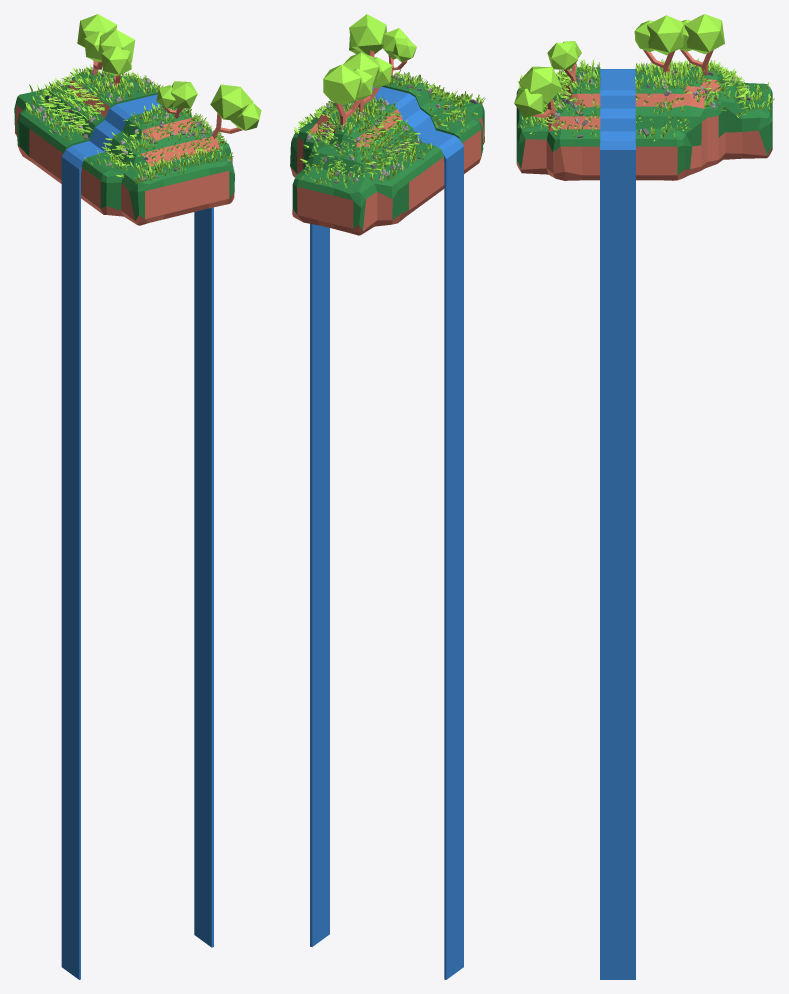
The model's file is Island 2.fbx.
The picture shows the model from 3 angles, left to right: view 1: azimuth 30°, elevation 25°; view 2: azimuth 150°, elevation 25°; view 3: azimuth 270°, elevation 25°; orthographic projection. The views are drawn at different scales.
Parts seen in each view (by area): view 1: Island 2, Island 2|Tree 1|Dupli|0.2, Island 2|Tree 1|Dupli|2.2, Island 2|Tree 1|Dupli|3.2, Island 2|Tree 1|Dupli|1.2; view 2: Island 2, Island 2|Tree 1|Dupli|3.2, Island 2|Tree 1|Dupli|0.2, Island 2|Tree 1|Dupli|2.2, Island 2|Tree 1|Dupli|1.2; view 3: Island 2, Island 2|Tree 1|Dupli|0.2, Island 2|Tree 1|Dupli|2.2, Island 2|Tree 1|Dupli|3.2, Island 2|Tree 1|Dupli|1.2.
Part boxes in pixels (x1,y1,x2,y2): Island 2: [14, 72, 234, 979]; Island 2|Tree 1|Dupli|0.2: [210, 84, 261, 139]; Island 2|Tree 1|Dupli|2.2: [97, 29, 135, 88]; Island 2|Tree 1|Dupli|3.2: [77, 14, 116, 75]; Island 2|Tree 1|Dupli|1.2: [156, 81, 197, 118]; Island 2: [290, 76, 484, 979]; Island 2|Tree 1|Dupli|3.2: [323, 64, 373, 124]; Island 2|Tree 1|Dupli|0.2: [349, 14, 386, 57]; Island 2|Tree 1|Dupli|2.2: [343, 52, 392, 111]; Island 2|Tree 1|Dupli|1.2: [382, 28, 416, 75]; Island 2: [516, 67, 772, 979]; Island 2|Tree 1|Dupli|0.2: [514, 66, 561, 118]; Island 2|Tree 1|Dupli|2.2: [634, 15, 683, 75]; Island 2|Tree 1|Dupli|3.2: [679, 14, 724, 75]; Island 2|Tree 1|Dupli|1.2: [547, 41, 581, 83].
Size of the model in its own units: 297 by 1752 by 444.
